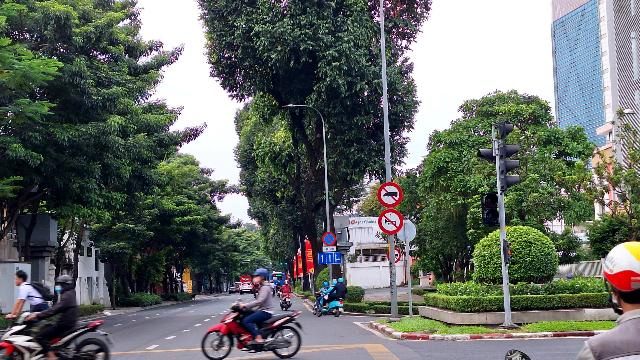cam-bop-coi: (378, 209, 404, 235)
cam-do-xe: (322, 231, 337, 246)
